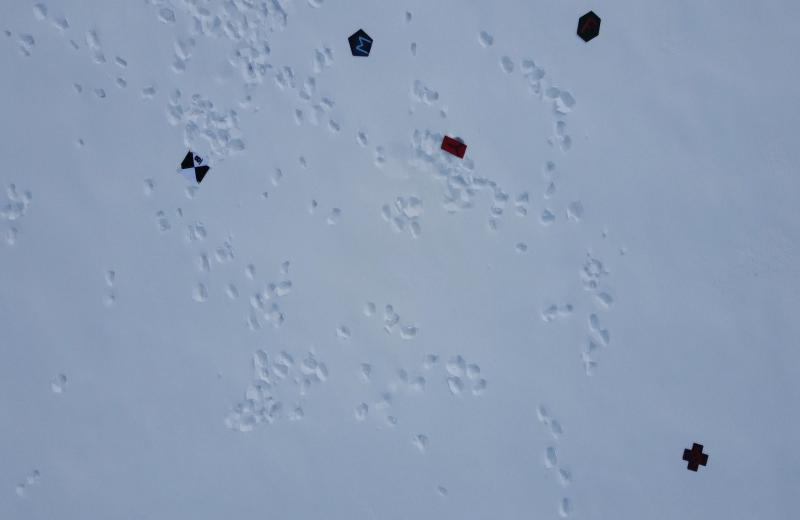Cross: (680, 440, 712, 474)
Hexagon: (574, 5, 604, 41)
Pentagon: (346, 27, 375, 62)
Rectangle: (438, 133, 471, 163)
